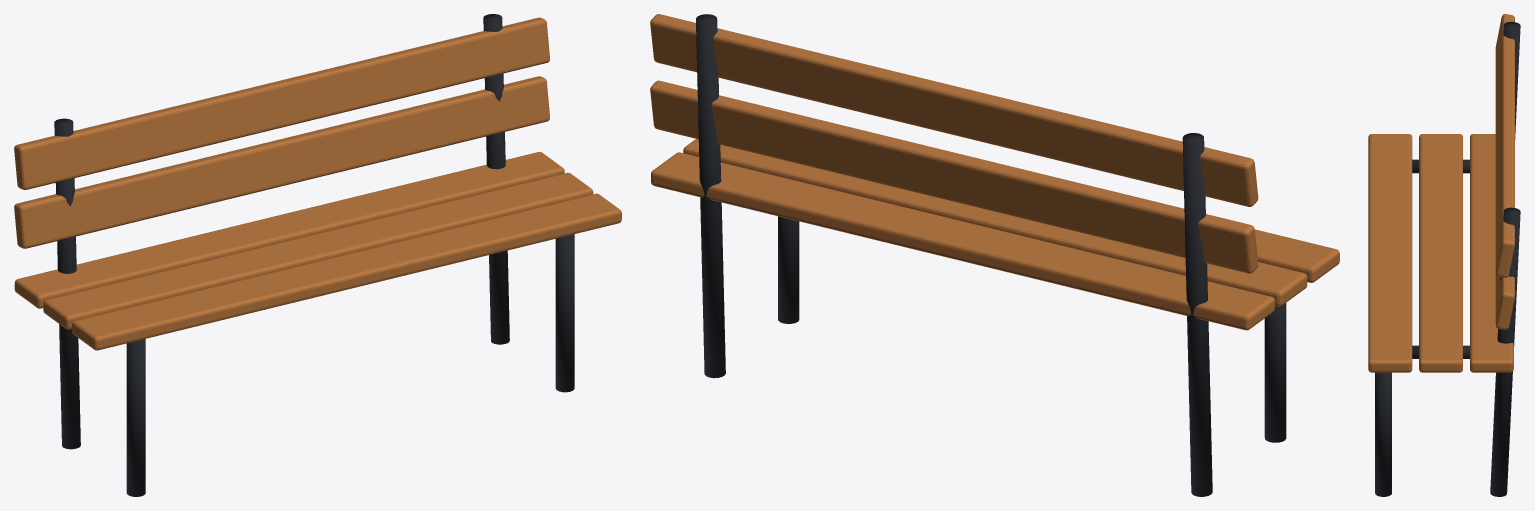
File: banca.glb
The picture shows the model from 3 angles, left to right: view 1: azimuth 30°, elevation 25°; view 2: azimuth 150°, elevation 25°; view 3: azimuth 270°, elevation 25°; orthographic projection. The views are drawn at different scales.
Parts seen in each view (by area): view 1: Cube.004, Cube.003, Cube, Cube.001, Cube.002, Cylinder.001, Cylinder.004, Cylinder, Cylinder.003; view 2: Cube.003, Cube.004, Cube.002, Cube.001, Cylinder.001, Cylinder.004, Cylinder, Cube, Cylinder.003; view 3: Cube, Cube.001, Cube.002, Cube.004, Cylinder.004, Cylinder.003, Cube.003, Cylinder.001, Cylinder.002, Cylinder.005.
Part boxes in pixels (box(x1,y1,x2,y2)): Cube.004: box(14, 17, 549, 189); Cube.003: box(14, 76, 549, 248); Cube: box(72, 193, 621, 350); Cube.001: box(43, 172, 593, 329); Cube.002: box(14, 152, 564, 308); Cylinder.001: box(54, 118, 80, 449); Cylinder.004: box(483, 14, 509, 344); Cylinder: box(126, 339, 145, 496); Cylinder.003: box(555, 234, 574, 392); Cube.003: box(650, 80, 1258, 273); Cube.004: box(650, 14, 1258, 206); Cube.002: box(651, 152, 1274, 330); Cube.001: box(683, 139, 1307, 306); Cylinder.001: box(1182, 133, 1212, 496); Cylinder.004: box(696, 14, 725, 378); Cylinder: box(1264, 303, 1286, 442); Cube: box(1254, 229, 1339, 282); Cylinder.003: box(778, 216, 799, 323); Cube: box(1368, 134, 1412, 372); Cube.001: box(1419, 134, 1462, 372); Cube.002: box(1470, 134, 1513, 372); Cube.004: box(1495, 14, 1514, 277); Cylinder.004: box(1490, 207, 1520, 496); Cylinder.003: box(1375, 372, 1391, 496); Cube.003: box(1495, 273, 1514, 329); Cylinder.001: box(1503, 22, 1520, 139); Cylinder.002: box(1412, 159, 1469, 173); Cylinder.005: box(1412, 345, 1469, 358).
Bounding box in the file's own units: 1.6 × 0.9222 × 0.45.
